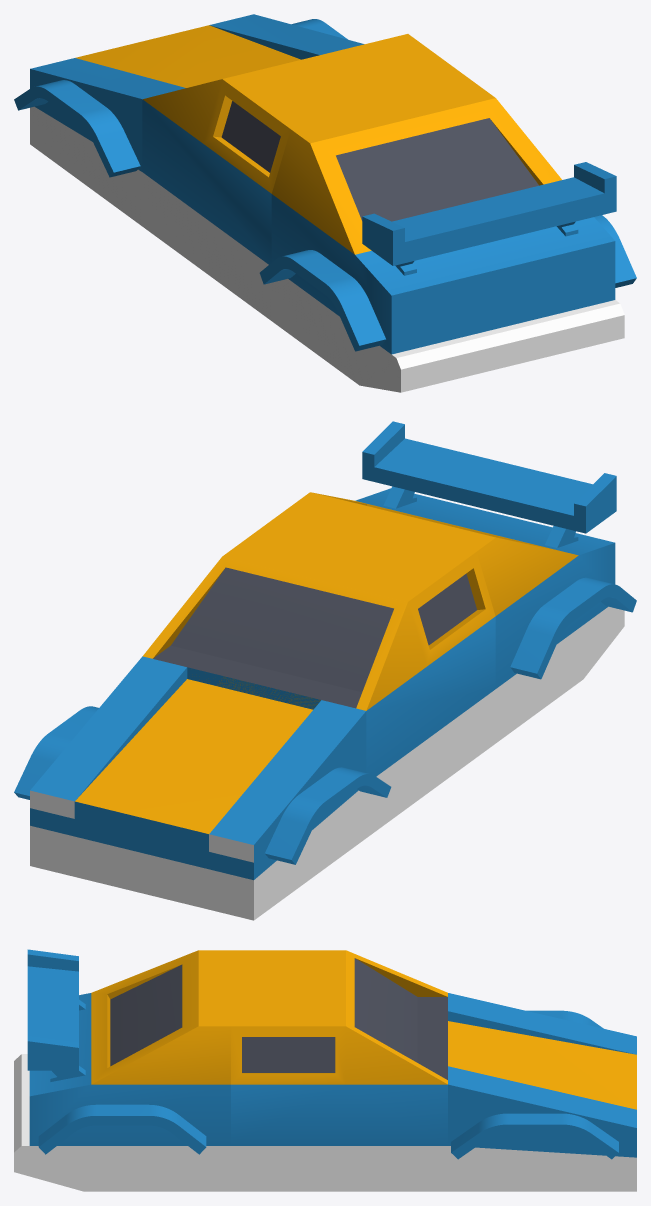
File: Car06.obj
The picture shows the model from 3 angles, top to bottom: view 1: azimuth 30°, elevation 25°; view 2: azimuth 150°, elevation 25°; view 3: azimuth 270°, elevation 25°; orthographic projection. The views are drawn at different scales.
Parts seen in each view (by area): view 1: trunk_square_6, windshield_sports_1, hood_sleek_3, detail_spoiler_7, detail_fenderRounded_9, detail_fenderRounded_8, detail_fenderRounded_10; view 2: windshield_sports_1, hood_sleek_3, trunk_square_6, detail_spoiler_7, detail_fenderRounded_9, detail_fenderRounded_8, detail_fenderRounded_11; view 3: windshield_sports_1, trunk_square_6, hood_sleek_3, detail_spoiler_7, detail_fenderRounded_10, detail_fenderRounded_11, detail_fenderRounded_8.
Part boxes in pixels (x1,y1,x2,y2): trunk_square_6: [271, 84, 624, 392]; windshield_sports_1: [142, 34, 475, 320]; hood_sleek_3: [30, 14, 364, 225]; detail_spoiler_7: [362, 162, 616, 275]; detail_fenderRounded_9: [259, 250, 385, 351]; detail_fenderRounded_8: [14, 80, 140, 177]; detail_fenderRounded_10: [594, 215, 636, 287]; windshield_sports_1: [143, 506, 495, 837]; hood_sleek_3: [30, 656, 366, 920]; trunk_square_6: [291, 488, 624, 743]; detail_spoiler_7: [362, 421, 616, 547]; detail_fenderRounded_9: [510, 577, 636, 679]; detail_fenderRounded_8: [265, 767, 391, 864]; detail_fenderRounded_11: [14, 706, 98, 799]; windshield_sports_1: [231, 950, 447, 1191]; trunk_square_6: [14, 950, 230, 1191]; hood_sleek_3: [448, 993, 636, 1191]; detail_spoiler_7: [27, 949, 85, 1081]; detail_fenderRounded_10: [38, 1104, 206, 1154]; detail_fenderRounded_11: [451, 1113, 618, 1159]; detail_fenderRounded_8: [526, 1010, 603, 1028].
Bounding box in the file's own units: 1.24 × 0.8 × 2.87.
